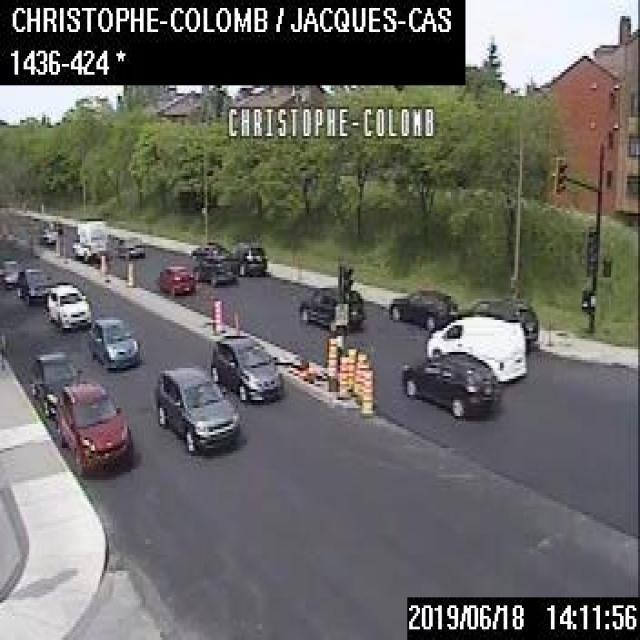construction: (350, 348, 366, 394), (359, 366, 373, 414), (355, 359, 367, 403), (344, 344, 355, 390), (337, 353, 347, 397), (326, 336, 336, 379), (298, 360, 316, 379), (126, 256, 134, 285), (213, 299, 220, 328), (98, 256, 106, 280)
vehicle: (153, 364, 238, 448), (56, 379, 131, 472), (424, 314, 526, 378), (401, 348, 495, 416), (210, 330, 282, 400), (453, 294, 537, 344), (29, 349, 82, 414), (298, 284, 363, 330), (388, 286, 458, 328), (87, 315, 136, 365), (44, 280, 90, 329), (224, 238, 266, 274), (16, 265, 54, 304), (70, 218, 106, 259), (191, 253, 233, 283), (156, 263, 194, 293), (115, 235, 144, 256), (0, 257, 20, 287), (189, 242, 219, 259), (37, 220, 58, 242), (49, 217, 62, 232)
